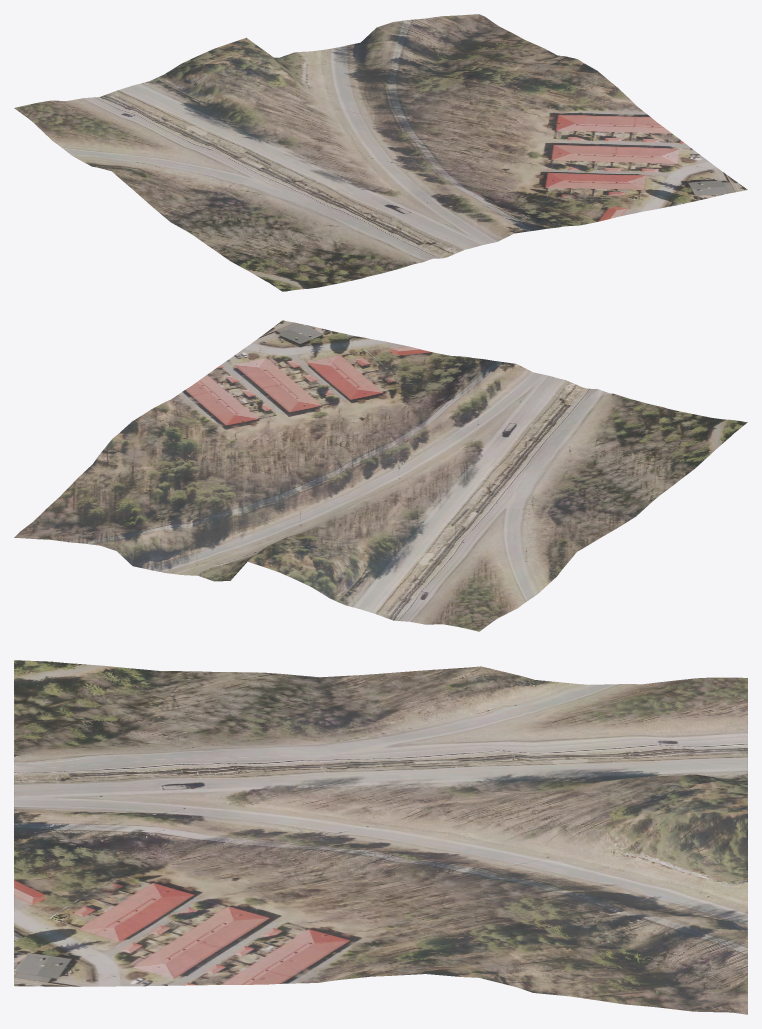
The model's file is CM_Terrain_24491482_6817541.fbx.
3 renders of one model, top to bottom at view 1: azimuth 30°, elevation 25°; view 2: azimuth 150°, elevation 25°; view 3: azimuth 270°, elevation 25°, orthographic. The views are drawn at different scales.
Parts seen in each view (by area): view 1: CM_Terrain_24491482_6817541_LOD0; view 2: CM_Terrain_24491482_6817541_LOD0; view 3: CM_Terrain_24491482_6817541_LOD0.
Part boxes in pixels (x1,y1,x2,y2): CM_Terrain_24491482_6817541_LOD0: (14, 14, 747, 291); CM_Terrain_24491482_6817541_LOD0: (14, 320, 747, 631); CM_Terrain_24491482_6817541_LOD0: (14, 660, 747, 1014).
Size of what is drawn, in the model's own units: 205 by 14.41 by 205.
